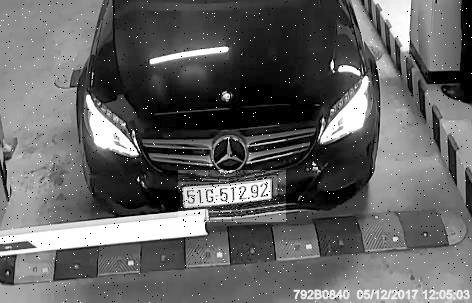License-plate: (180, 171, 289, 223)
